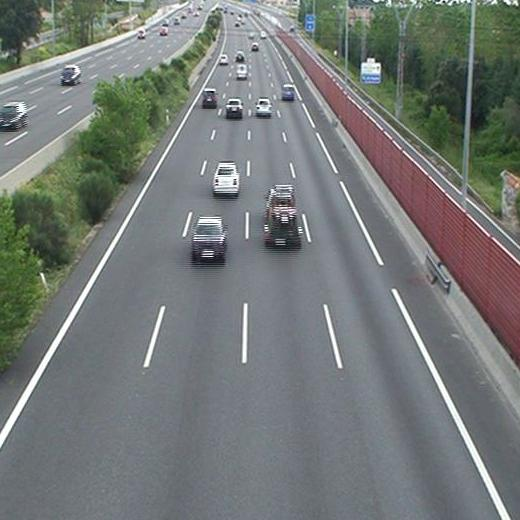car: (192, 219, 226, 259), (214, 163, 239, 192), (226, 100, 243, 117), (257, 99, 272, 116), (203, 89, 217, 106), (282, 84, 295, 99), (219, 54, 228, 64), (235, 53, 245, 61), (250, 43, 258, 50)
small-truck: (266, 190, 301, 247)
van: (236, 63, 248, 79)
